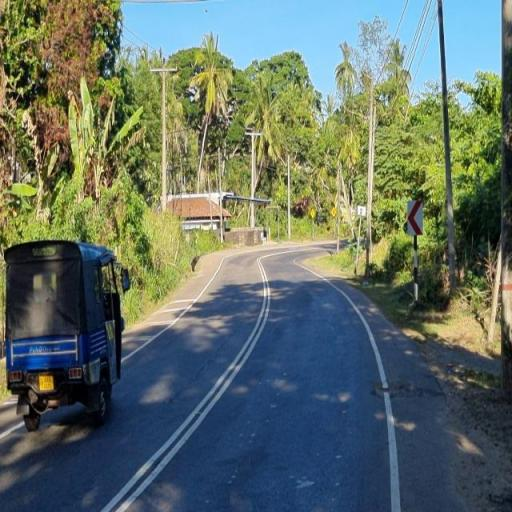double_white_line: (102, 252, 276, 511)
